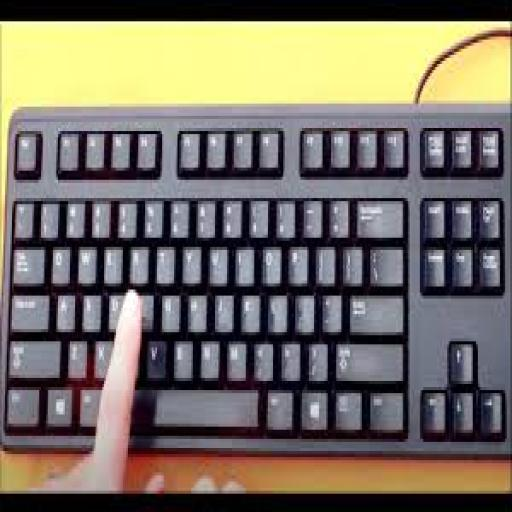KEYBOARD-2: (5, 112, 510, 456)
